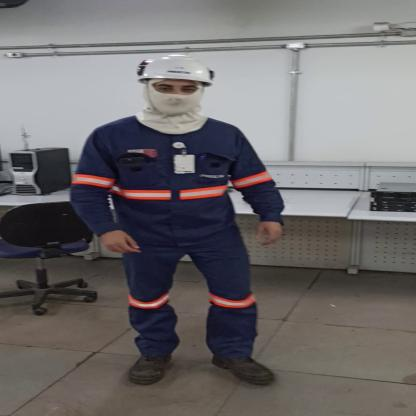Balaclava: (123, 79, 215, 135)
Capacete: (126, 53, 228, 86)
